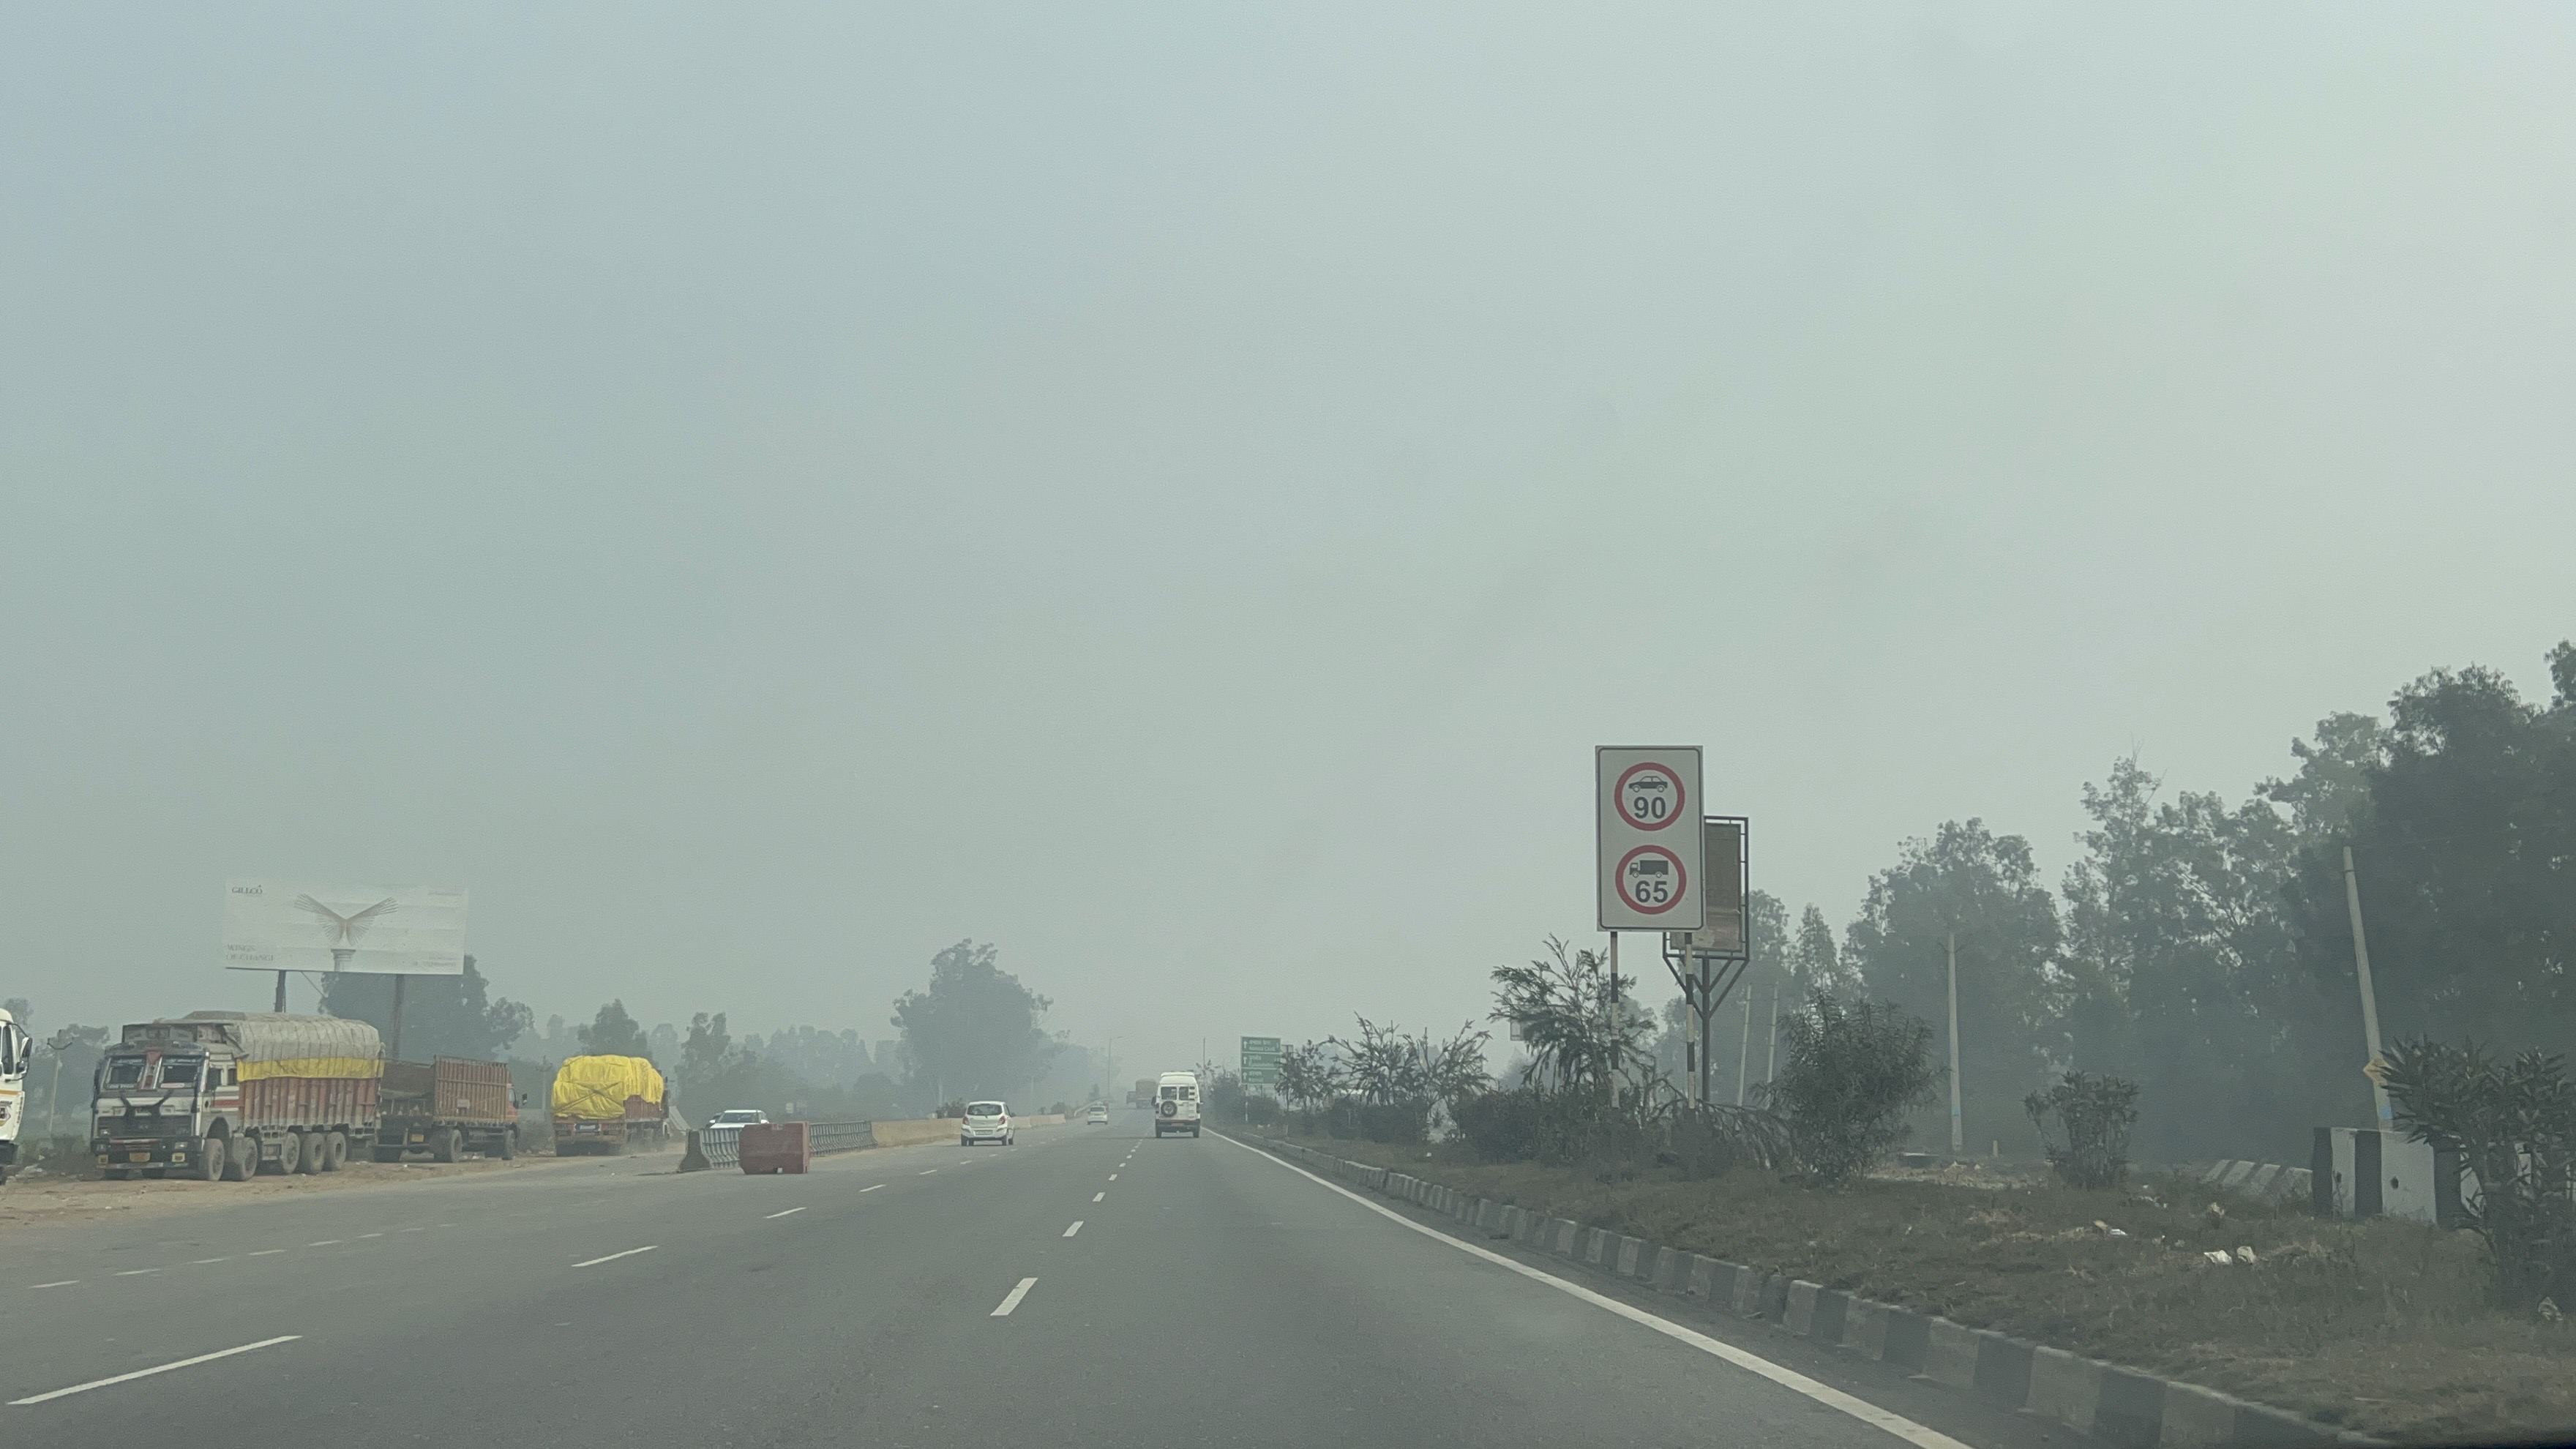Mandatory: (1598, 743, 1702, 840), (1605, 828, 1702, 925)
